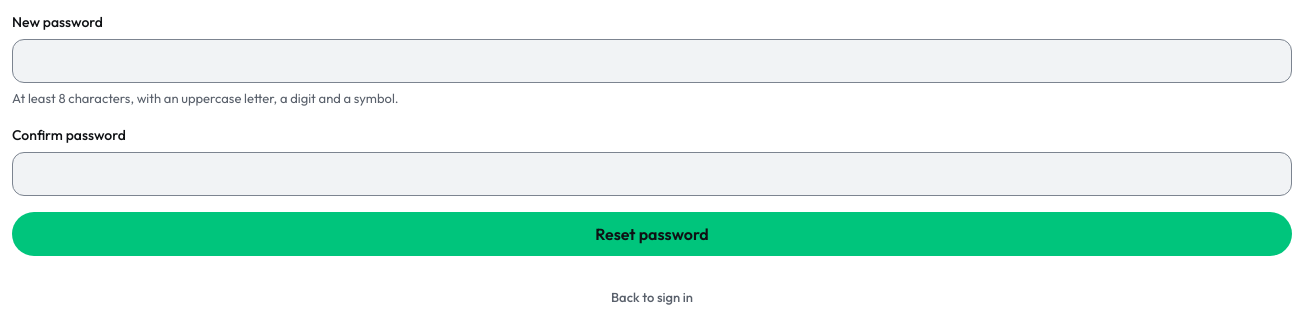
Test: ResetPasswordForm › renders the success state with sign-in link on successful reset
In the password field labelled "New password": (652, 61) [12,39,1292,83], type "NewPassword123!"
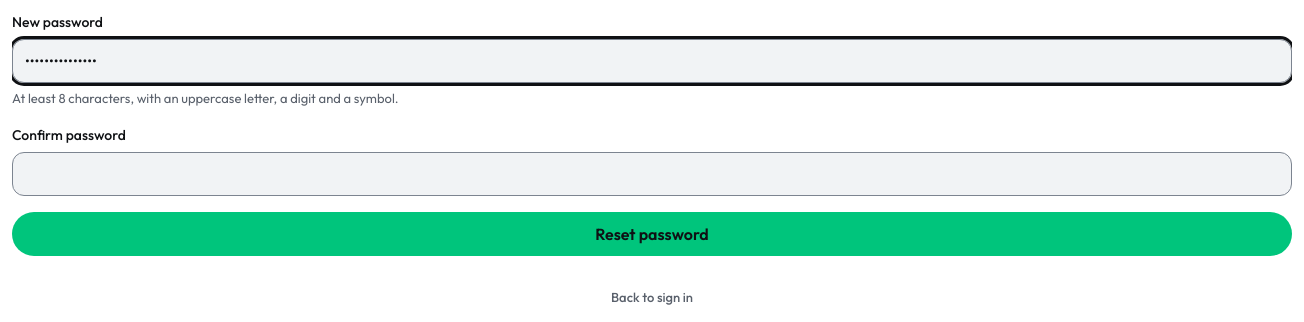
In the password field labelled "Confirm password": (652, 174) [12,152,1292,196], type "NewPassword123!"
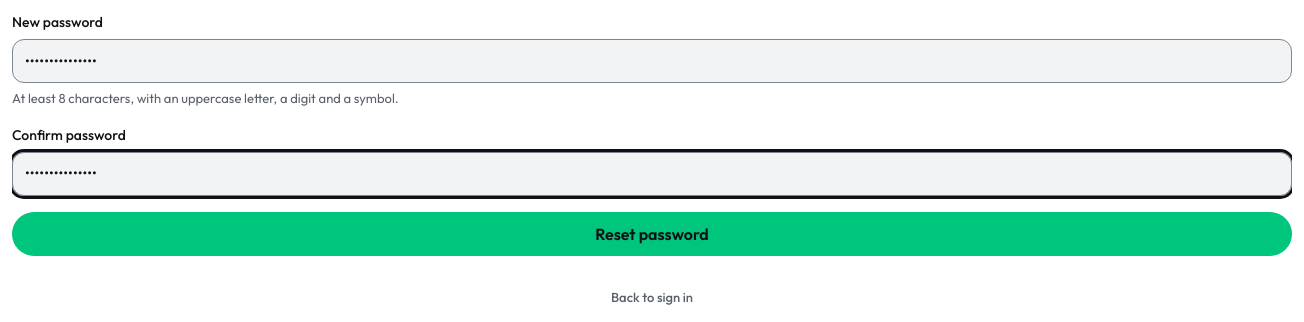
Click the button "Reset password": (652, 234) [12,212,1292,256]
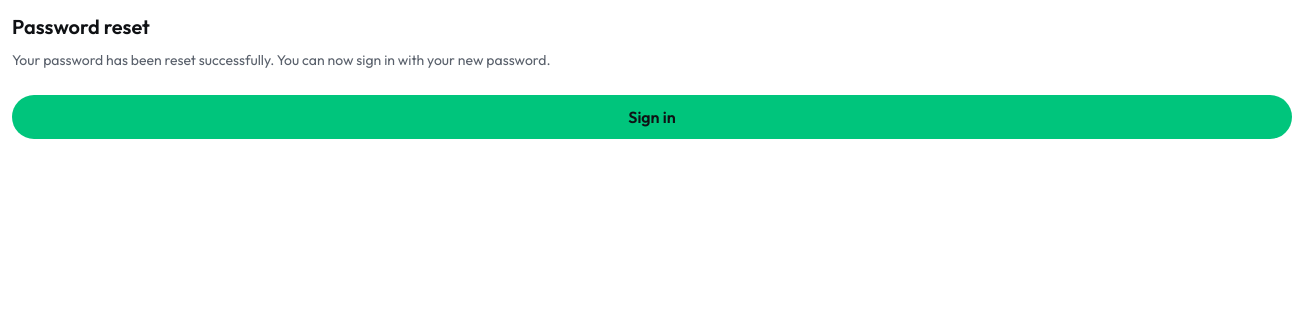
Expected: the heading "Password reset" is shown, [12,14,150,39]
Now the link "Sign in" is shown, box [12,95,1292,139]
